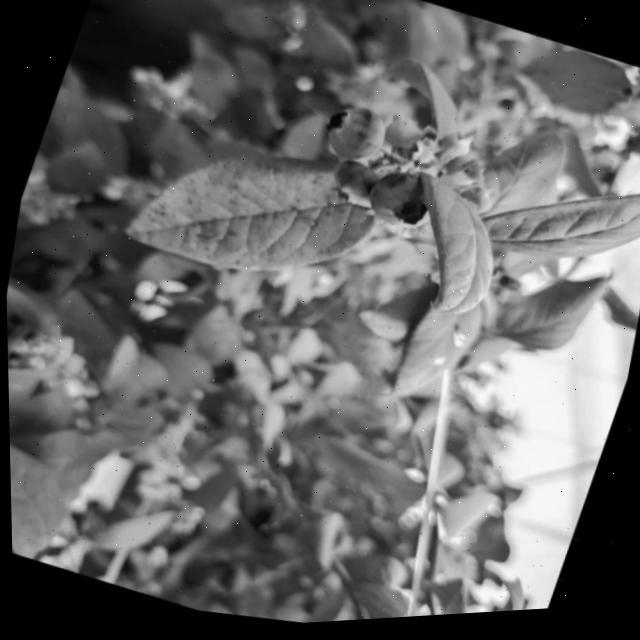RipeBlueBerry: (357, 158, 447, 242), (312, 95, 396, 175), (318, 153, 387, 218)
